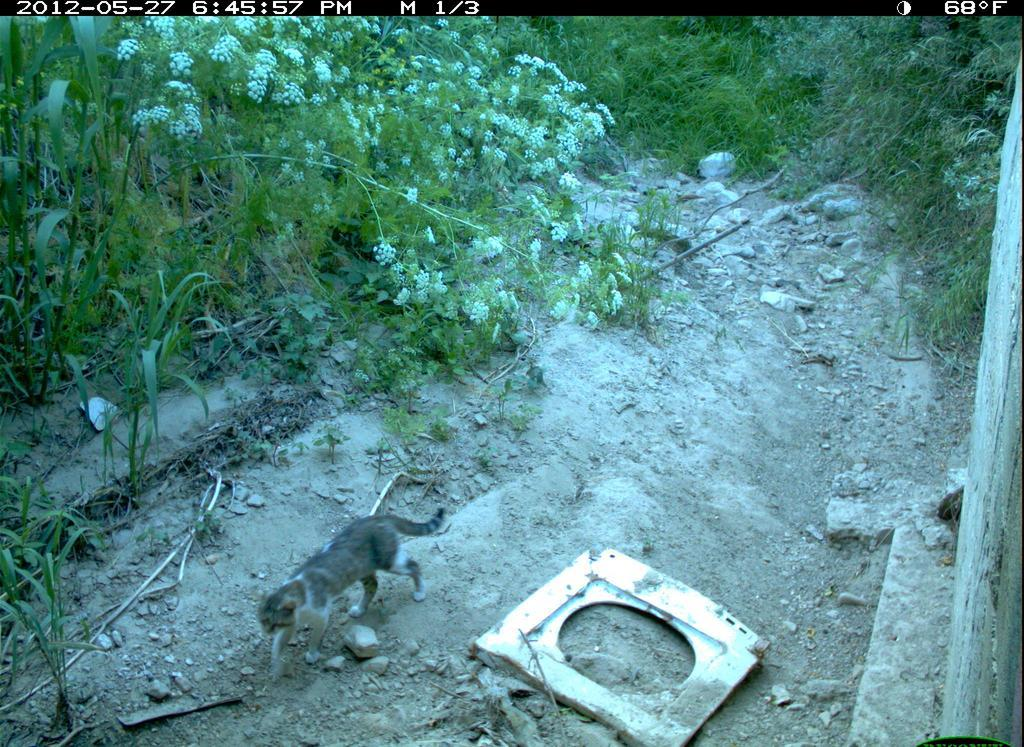cat: (249, 497, 451, 684)
